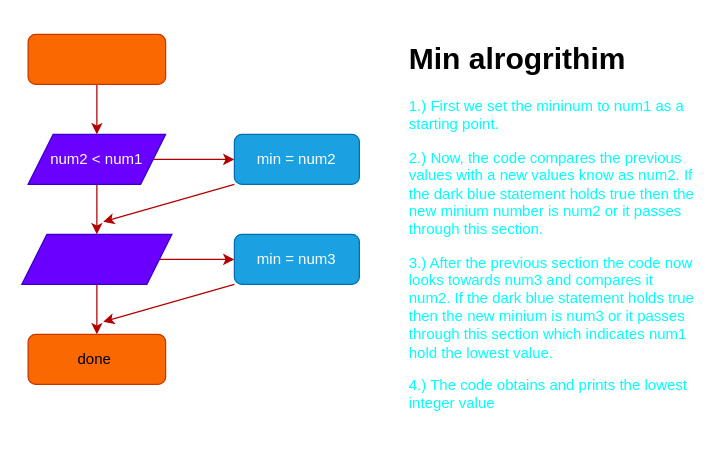
The diagram is 725 pixels wide and 468 high, and some of its shapes have lost their labels. The shapes that lost their labels are listed below. From the top down, each one's box as (x1, y1, x2, y2) in pixels, then its label:
(27, 33, 166, 84): min = num1
(21, 233, 172, 284): num3 < num2
